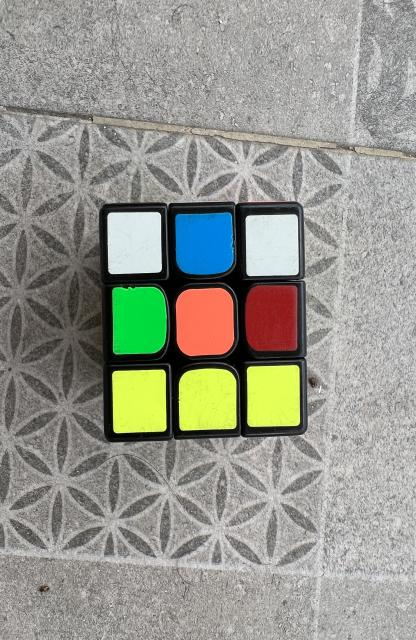Blue: (176, 212, 234, 275)
Green: (112, 286, 167, 355)
Orange: (176, 288, 234, 356)
Red: (245, 285, 298, 351)
White: (107, 212, 162, 274), (246, 215, 299, 276)
Yellow: (179, 369, 237, 431), (112, 370, 167, 434), (247, 365, 300, 428)
